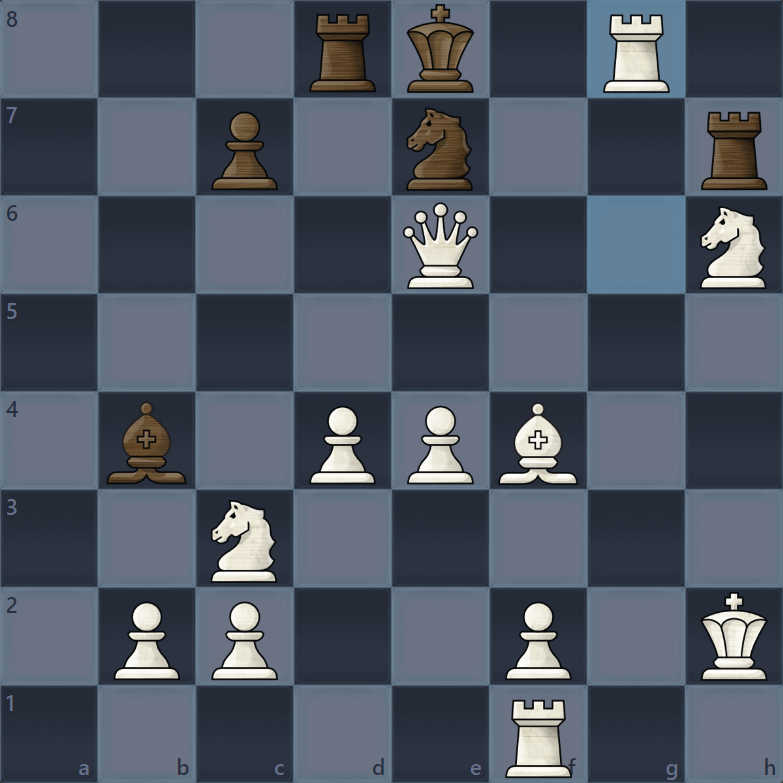B: (497, 400, 581, 488)
K: (699, 588, 770, 682)
N: (209, 498, 280, 587), (698, 205, 767, 292)
P: (111, 598, 180, 682), (209, 598, 278, 682), (504, 598, 573, 682), (307, 401, 376, 485), (407, 402, 476, 486)
Q: (400, 200, 479, 292)
R: (505, 695, 575, 780), (602, 12, 670, 95)
b: (105, 398, 190, 487)
k: (403, 2, 477, 97)
n: (403, 105, 477, 193)
p: (209, 108, 279, 192)
r: (308, 11, 379, 96), (700, 109, 770, 194)
